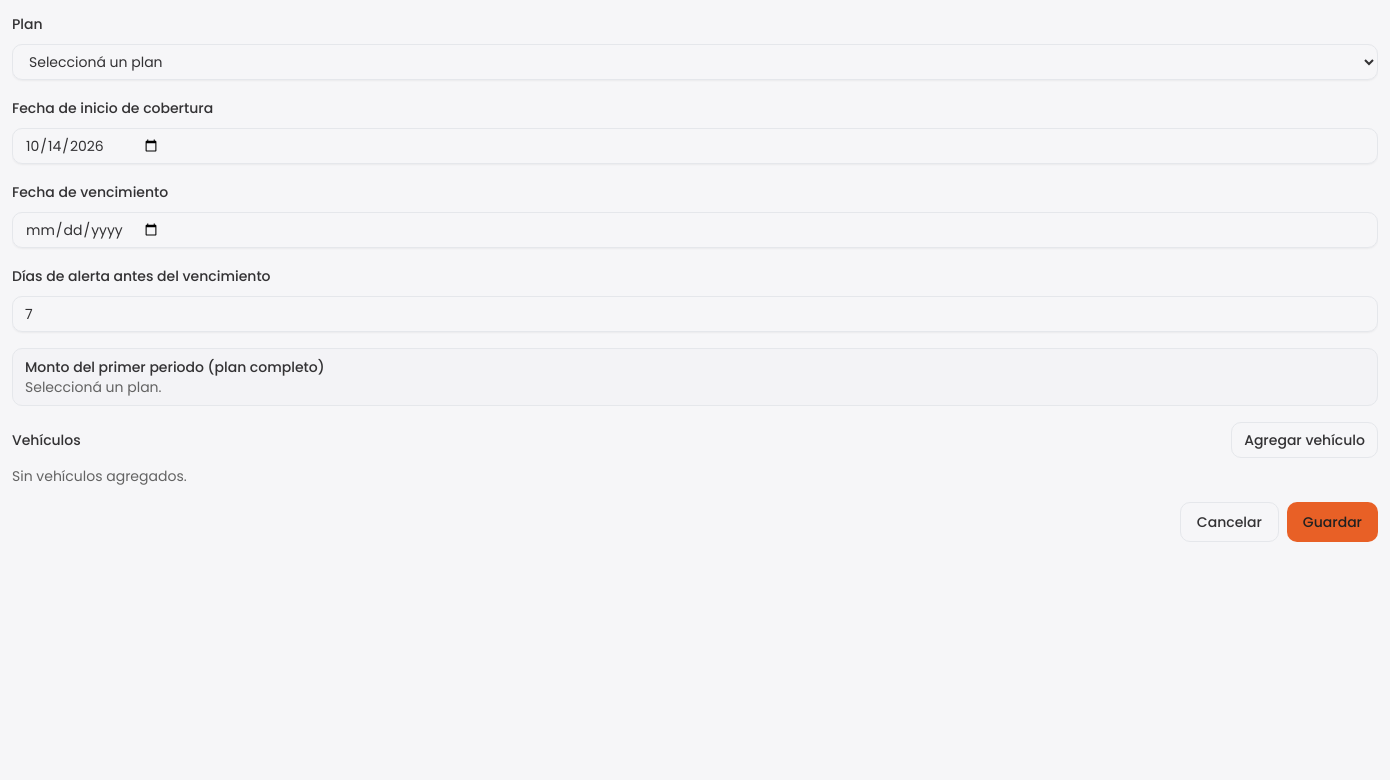
Scenario: <SuscripcionForm /> -- crear › maps the 409 placa_con_suscripcion_activa to a readable message naming the plate, without losing the saved subscripcion
Step 1. Select "Mensual cualquiera" in the dropdown with test id "suscripcion-field-plan" → point(695, 62), box [12,44,1378,80]
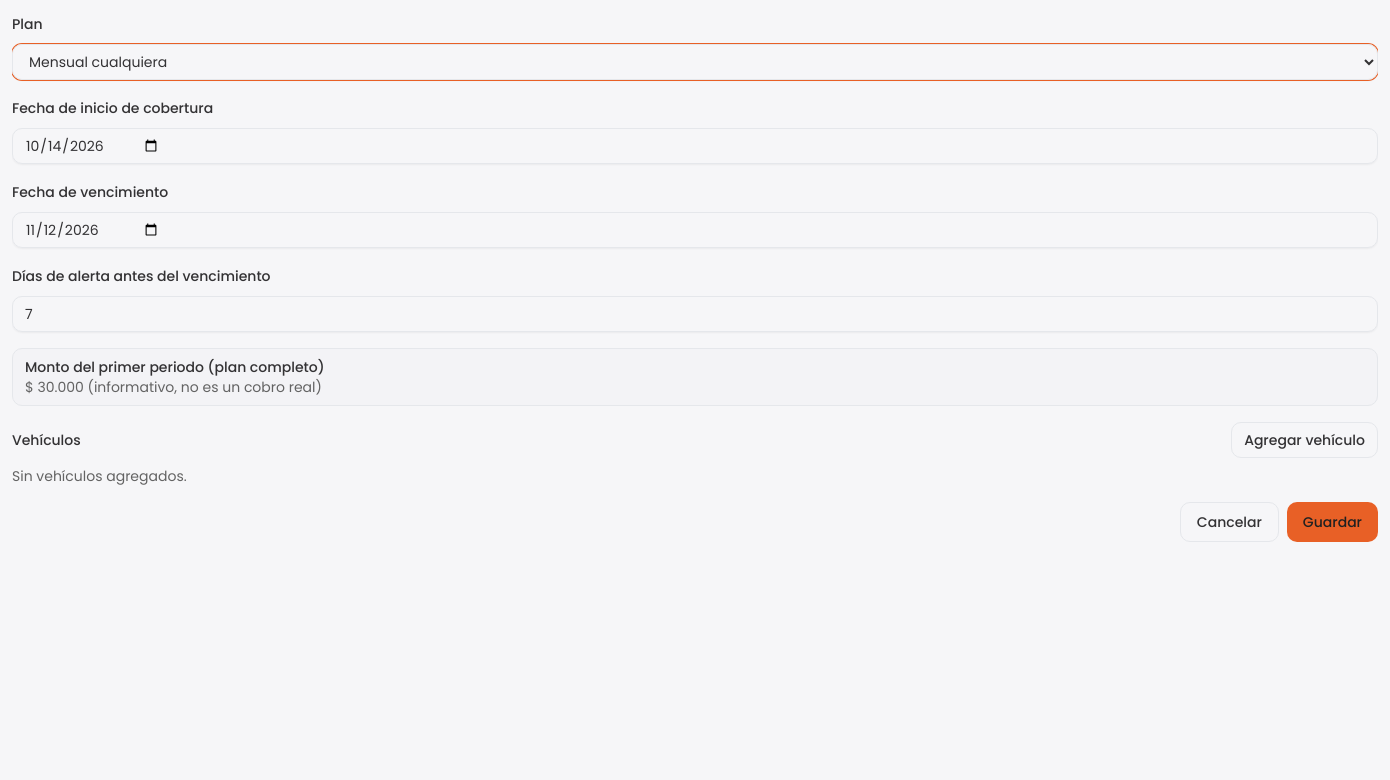
Step 2. Click the button with test id "suscripcion-agregar-vehiculo" → point(1305, 440), box [1231,422,1378,458]
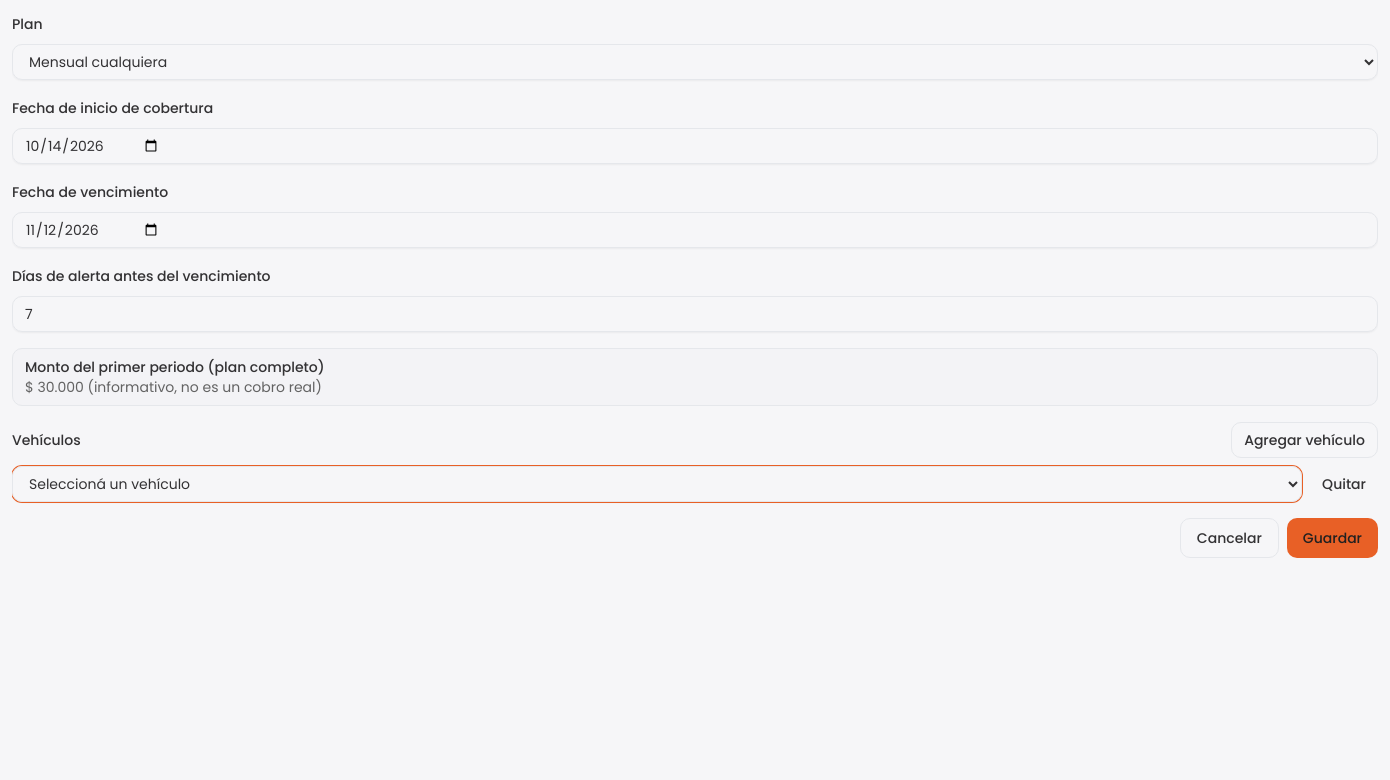
Step 3. Select "ABC123" in the 2nd dropdown → point(657, 484), box [12,466,1302,502]
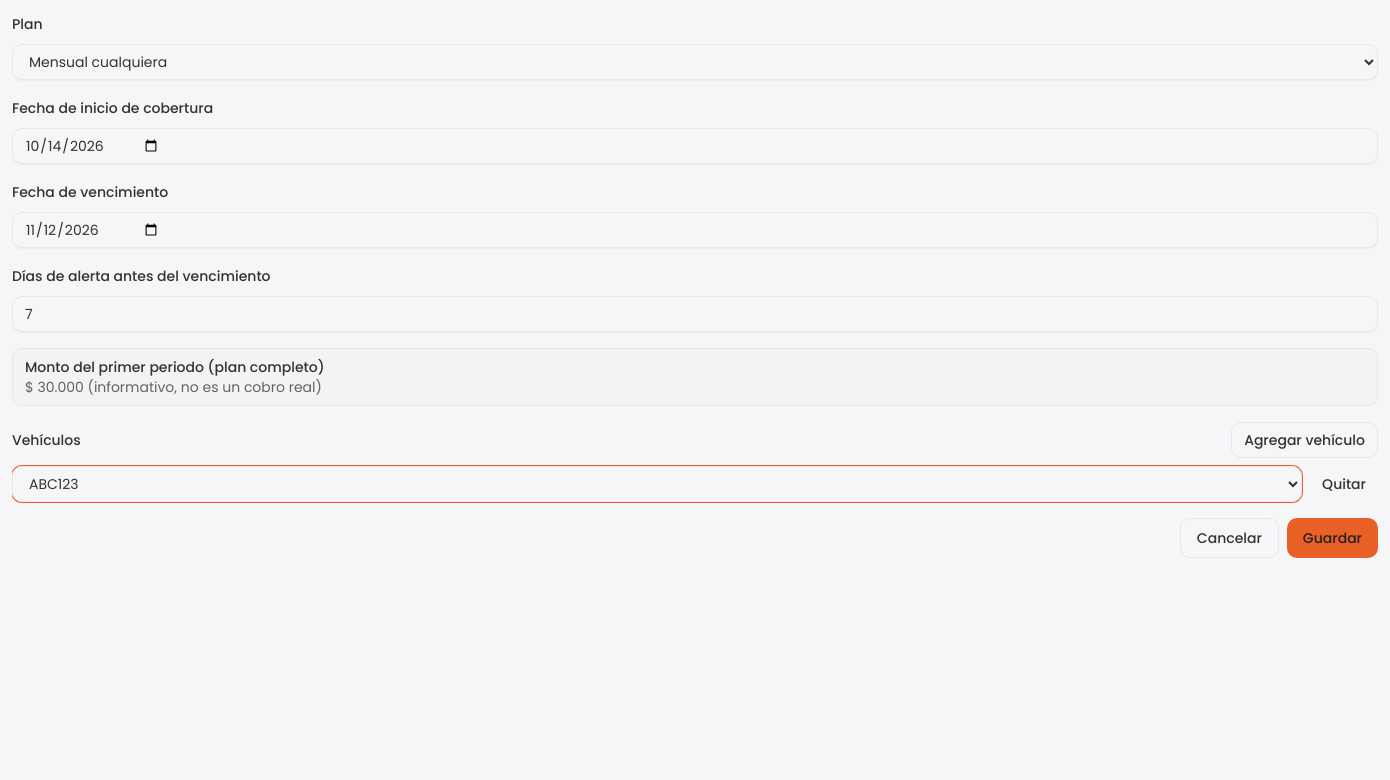
Step 4. Click the button with test id "suscripcion-form-submit" → point(1332, 538), box [1287,518,1378,558]
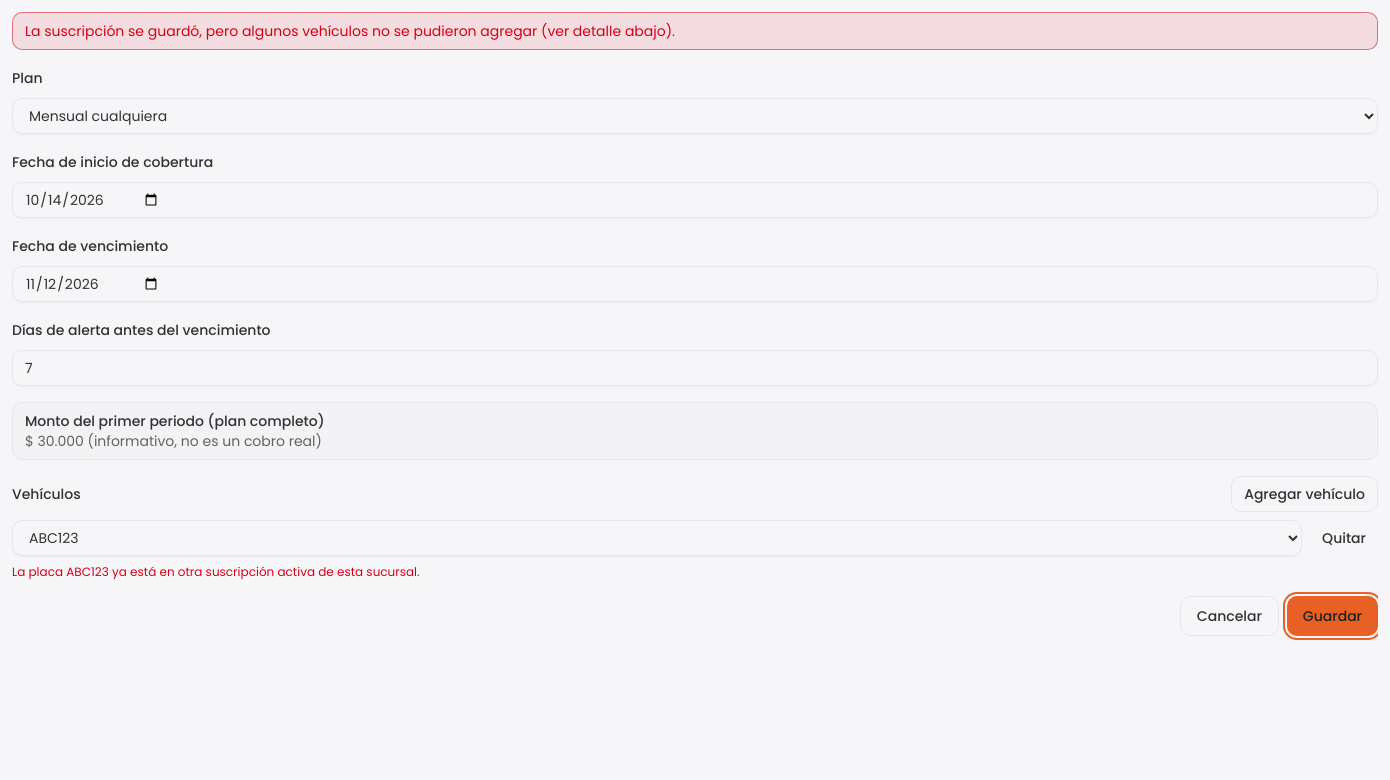
Check: the message with test id "suscripcion-vehiculo-error-0" shows "ABC123", box [12,563,420,580]
Check: the message with test id "suscripcion-vehiculo-error-0" shows "otra suscripción activa", box [12,563,420,580]
